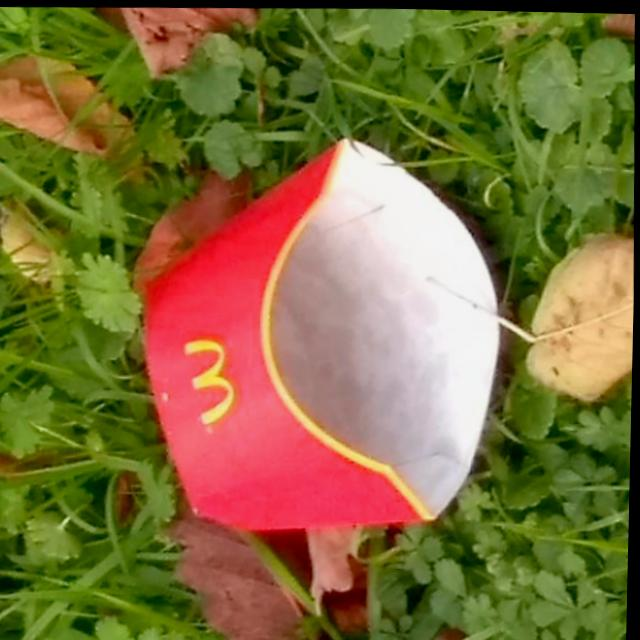Paper: (131, 127, 514, 539)
